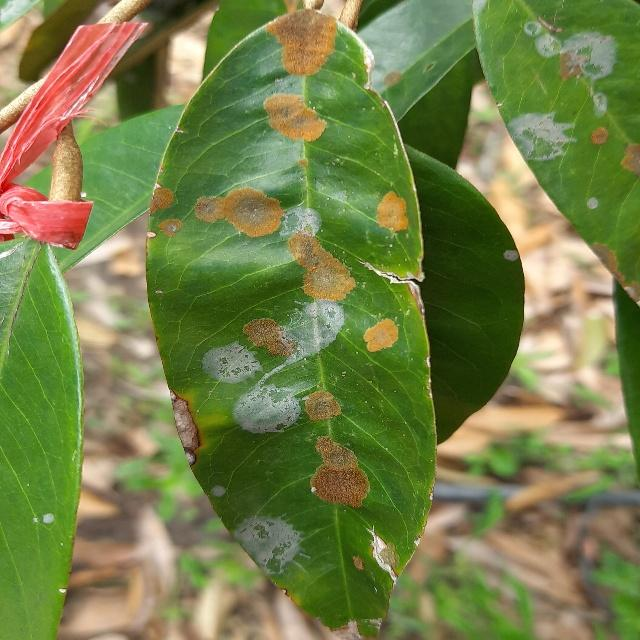Algal Leaf Spot: (139, 0, 449, 640)
